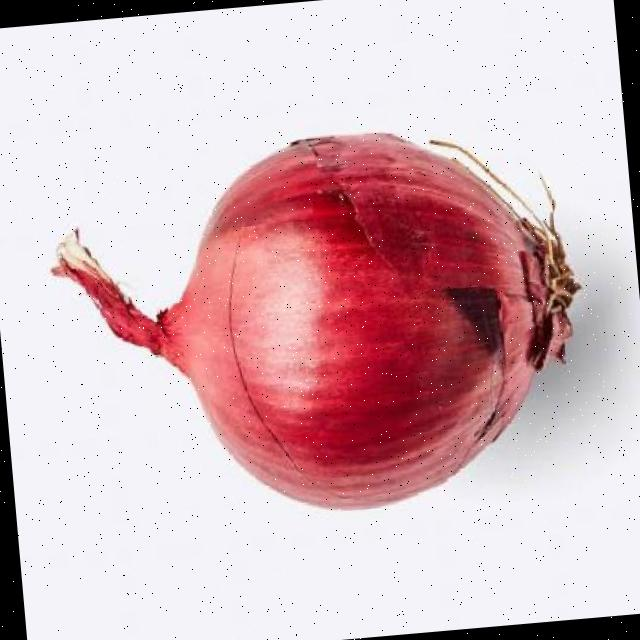Onion: (50, 130, 580, 508)
